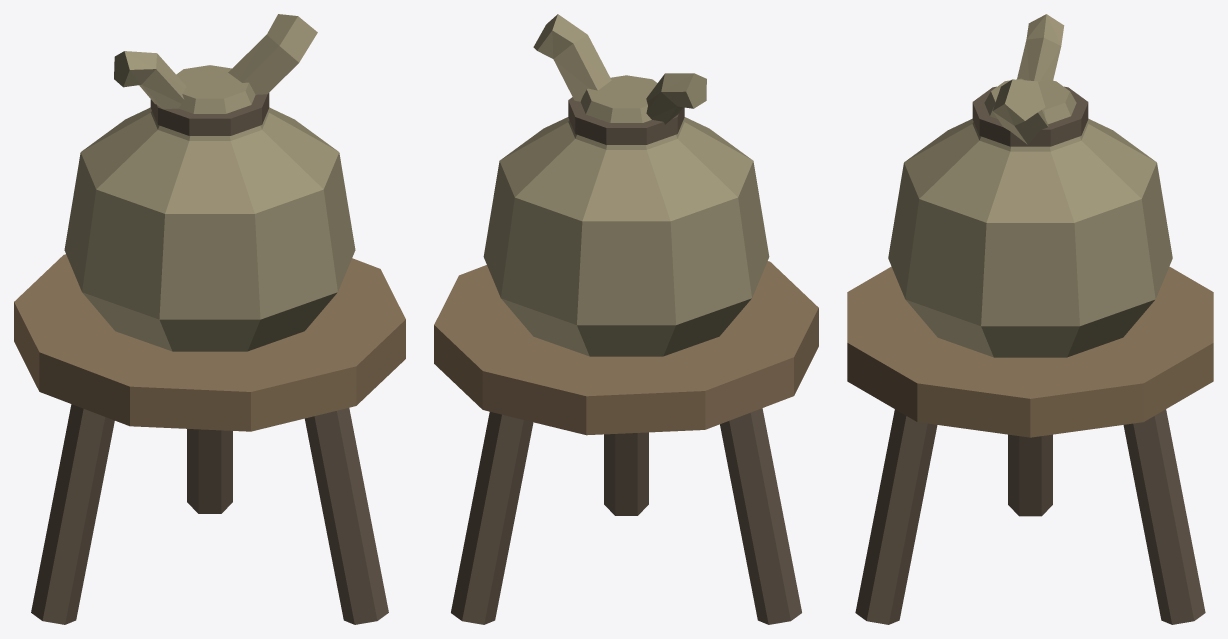
The model's file is DG_Stool_SackRest.fbx.
The picture shows the model from 3 angles, left to right: view 1: azimuth 30°, elevation 25°; view 2: azimuth 150°, elevation 25°; view 3: azimuth 270°, elevation 25°; orthographic projection. The views are drawn at different scales.
Parts seen in each view (by area): view 1: DG_Stool_SackRest; view 2: DG_Stool_SackRest; view 3: DG_Stool_SackRest.
Part boxes in pixels (box(x1,y1,x2,y2)): DG_Stool_SackRest: box(14, 14, 405, 624); DG_Stool_SackRest: box(434, 14, 818, 624); DG_Stool_SackRest: box(847, 14, 1213, 624).
Bounding box in the file's own units: 0.7256 × 1.12 × 0.6848.
